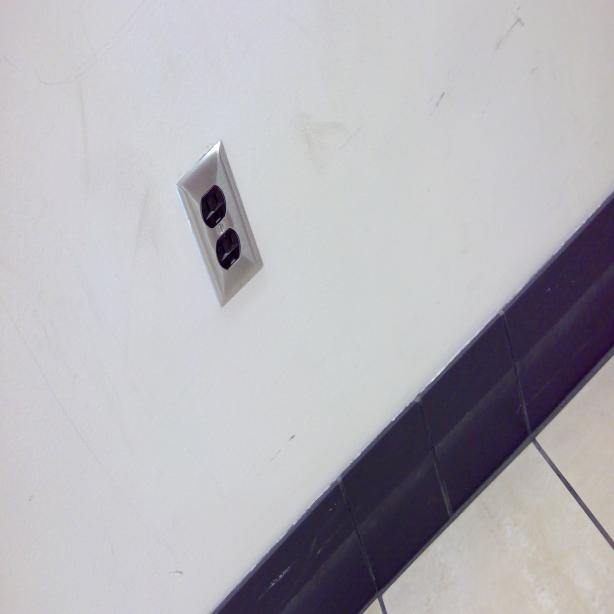typeb: (197, 183, 226, 224), (217, 233, 242, 267)
